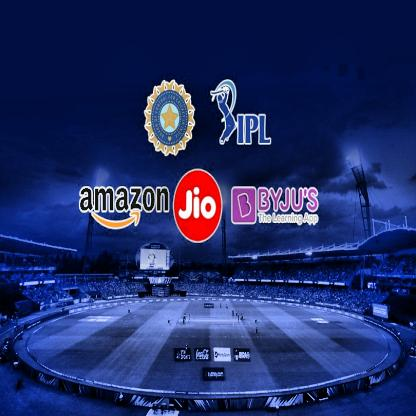Amazon: (80, 186, 169, 229), (92, 210, 141, 229)
BCCI: (143, 81, 194, 158)
Byjus: (233, 185, 319, 225), (235, 190, 253, 219)
IPL: (211, 78, 273, 146), (212, 75, 237, 147)
Jio: (173, 168, 223, 243)
